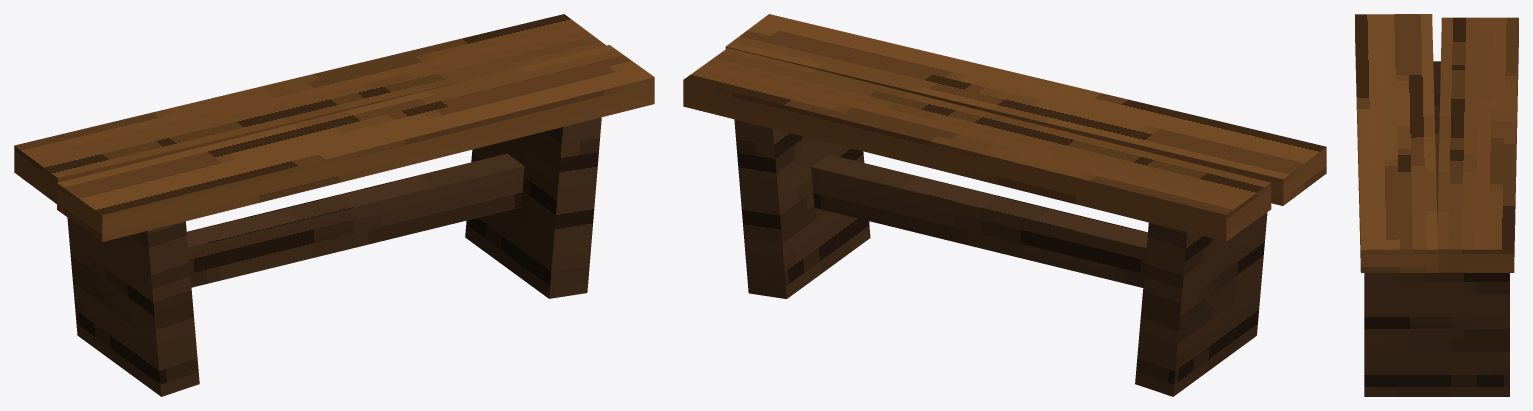
File: int_bench.glb
3 views of the same model, side by side, from view 1: azimuth 30°, elevation 25°; view 2: azimuth 150°, elevation 25°; view 3: azimuth 270°, elevation 25° (orthographic). The views are drawn at different scales.
Parts seen in each view (by area): view 1: int_bench; view 2: int_bench; view 3: int_bench.
Part boxes in pixels (x1,y1,x2,y2): int_bench: (14, 14, 654, 396); int_bench: (683, 14, 1326, 396); int_bench: (1355, 14, 1518, 396).
Size of the model in its own units: 1.3 by 0.45 by 0.3824.
Materials: 2 (2 with a texture image).
